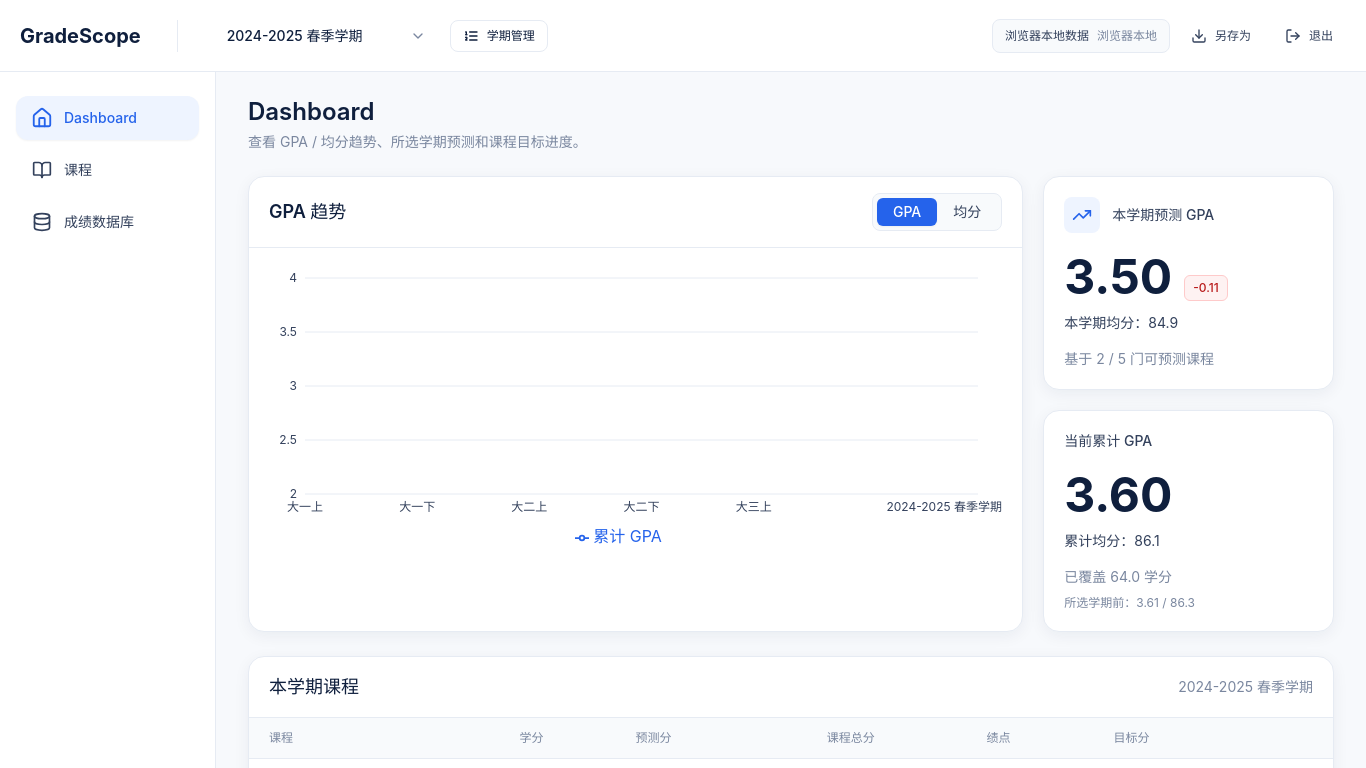
Scenario: GradePilot UI › switches dashboard term data
Select "大一上" in the dropdown named "选择学期" at {"x": 326, "y": 36}, box [214,16,438,56]
(page scrolled)
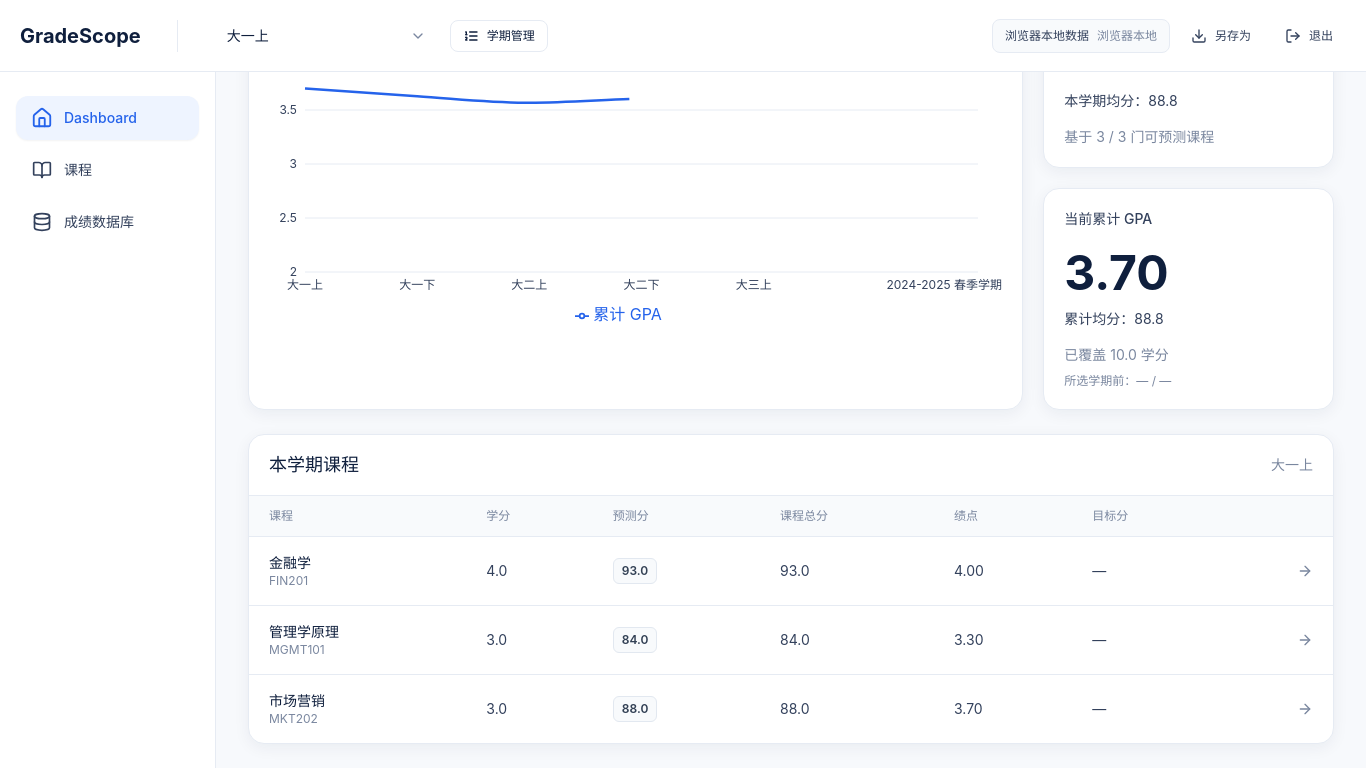
Check: the text "金融学" is shown, box [269,554,311,571]
